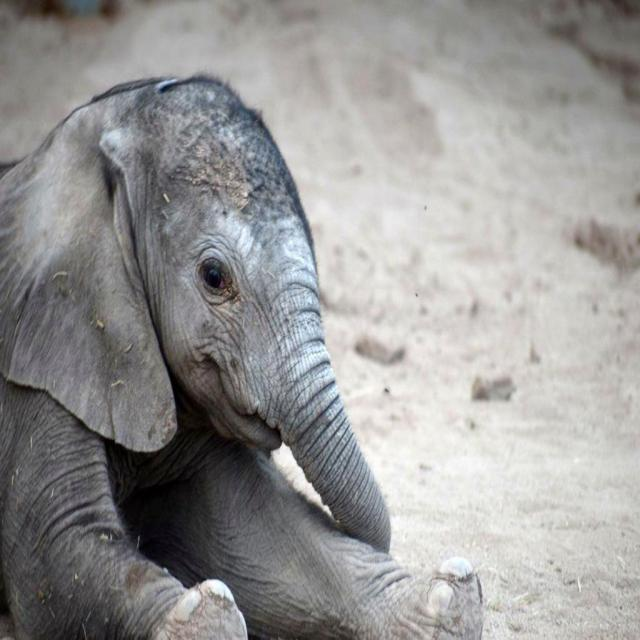elephant: (1, 75, 483, 639)
